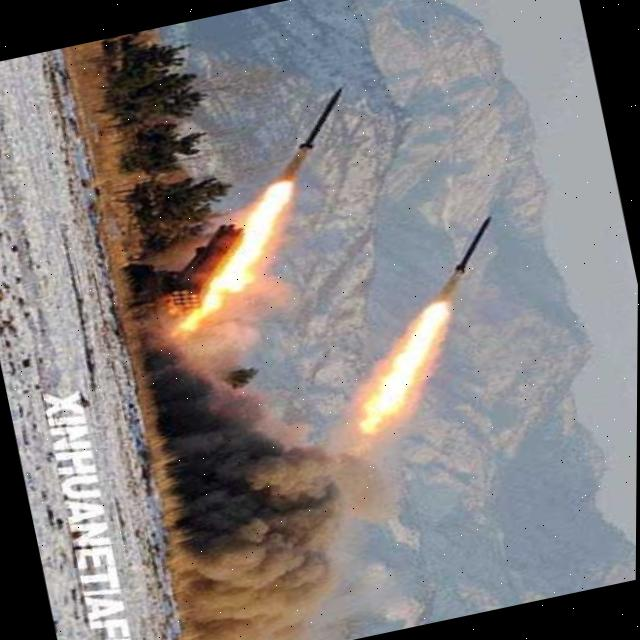missile: (285, 88, 356, 154), (439, 214, 504, 276)
